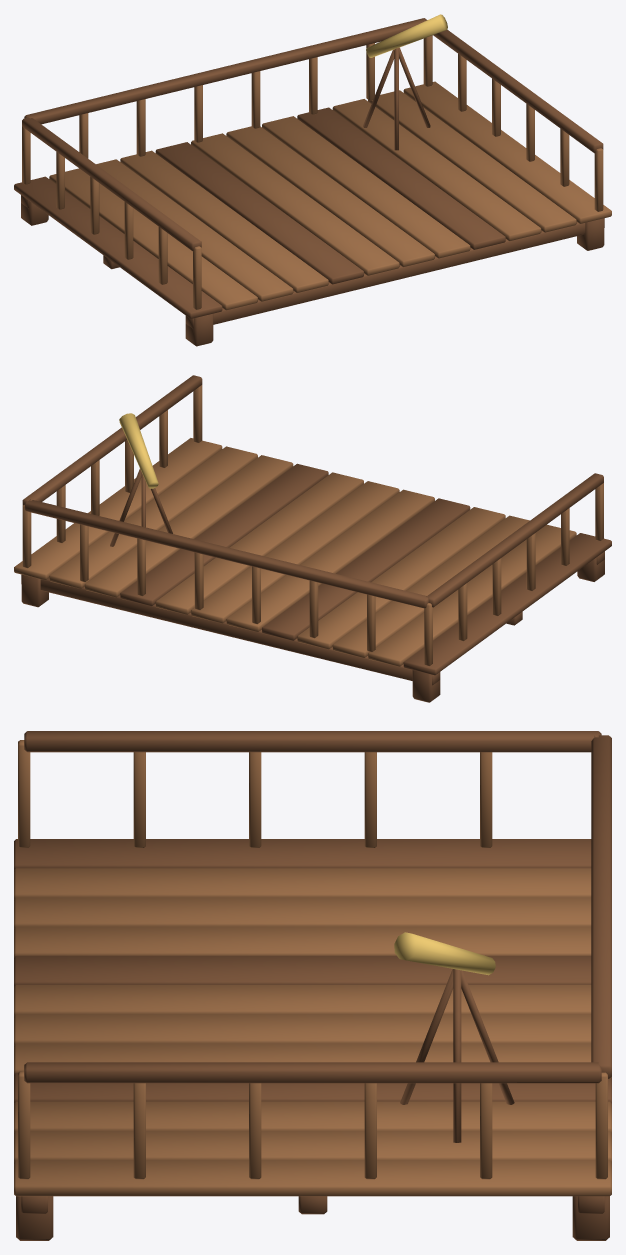
The model's file is deck.glb.
3 views of the same model, one above another, from view 1: azimuth 30°, elevation 25°; view 2: azimuth 150°, elevation 25°; view 3: azimuth 270°, elevation 25° (orthographic). The views are drawn at different scales.
Parts seen in each view (by area): view 1: deck:mesh; view 2: deck:mesh; view 3: deck:mesh.
Part boxes in pixels (x1,y1,x2,y2): deck:mesh: (14,14,611,346); deck:mesh: (14,375,611,702); deck:mesh: (14,731,611,1240).
Bounding box in the file's own units: 3.99 × 1.44 × 2.9.
